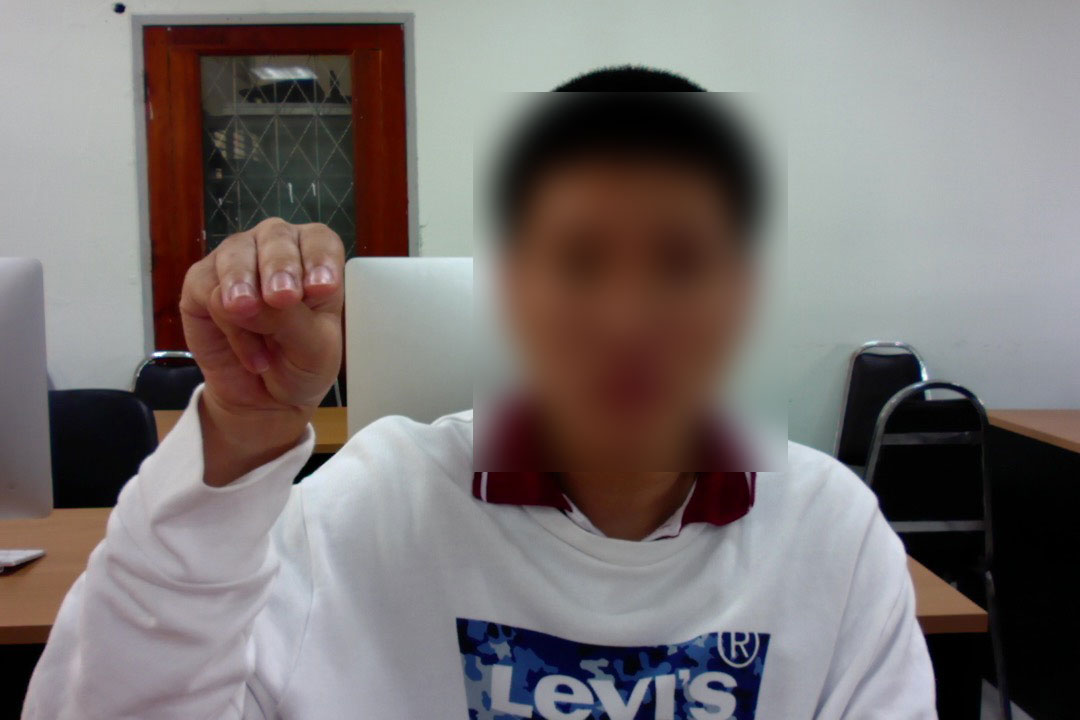mor: (173, 203, 355, 421)
